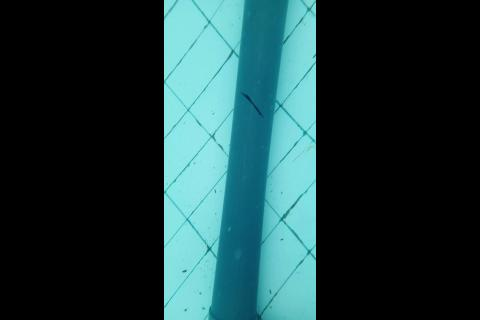keretakan: (239, 91, 264, 120)
